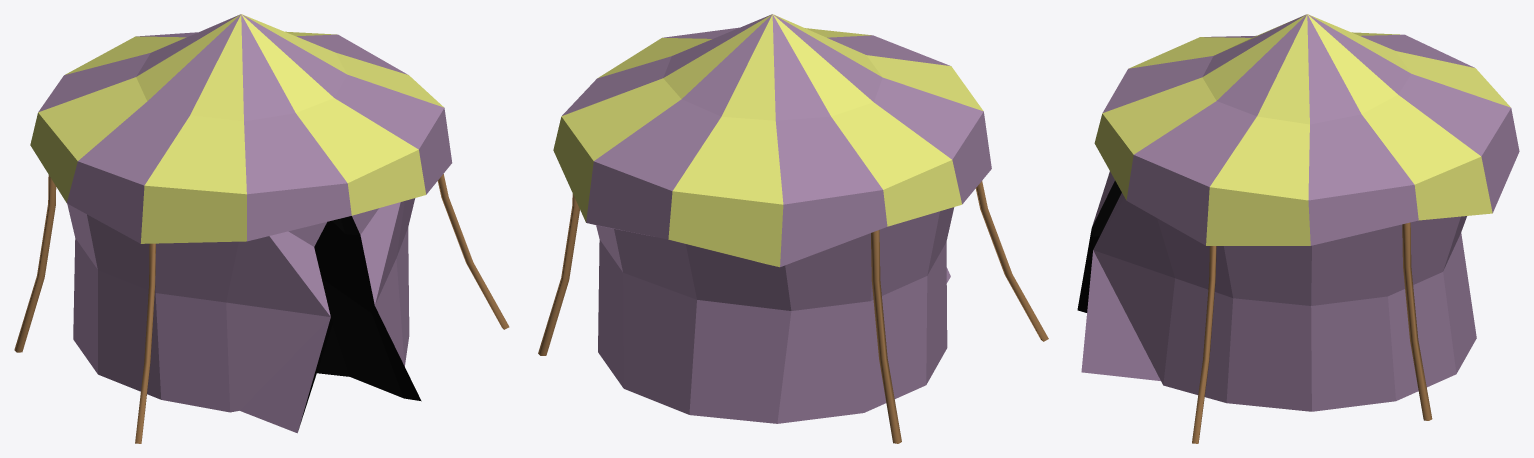
Rendered from Tent_Purple_2.fbx.
The picture shows the model from 3 angles, left to right: view 1: azimuth 30°, elevation 25°; view 2: azimuth 150°, elevation 25°; view 3: azimuth 270°, elevation 25°; orthographic projection. The views are drawn at different scales.
Visible parts, largest first — view 1: polySurface8; view 2: polySurface8; view 3: polySurface8.
Boxes of the visible parts, x1,y1,x2,y2 form: polySurface8: (14, 14, 509, 443); polySurface8: (538, 14, 1048, 443); polySurface8: (1077, 14, 1519, 443).
Bounding box in the file's own units: 99.01 × 79.28 × 94.46.
